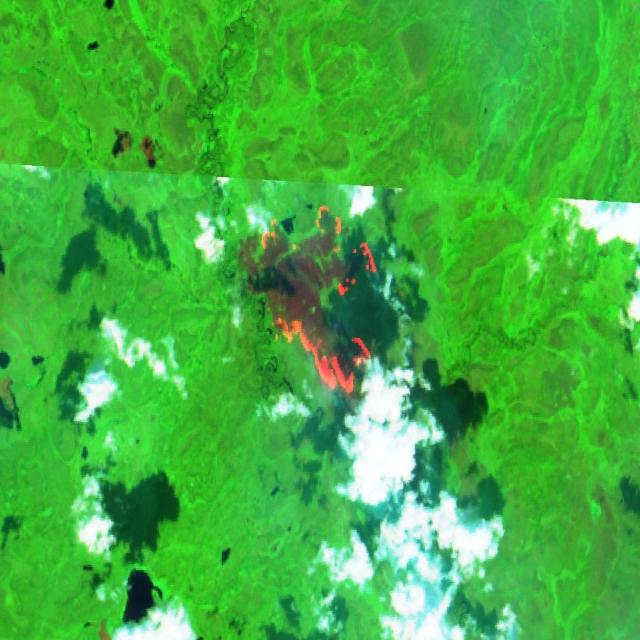fire: (249, 195, 385, 401)
